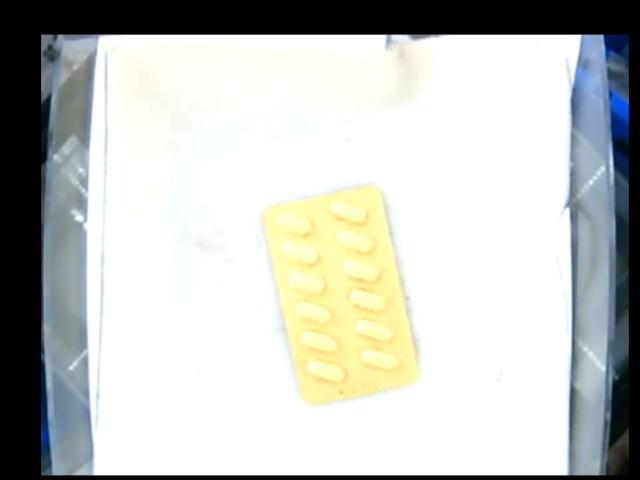Medicine: (261, 182, 420, 408)
